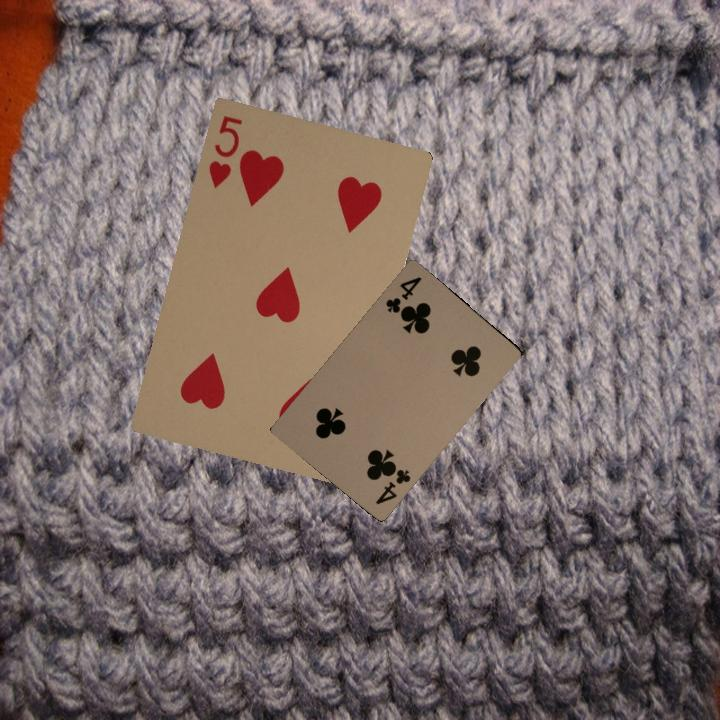4c: (382, 272, 424, 316), (372, 462, 413, 507)
5h: (204, 111, 245, 191)
